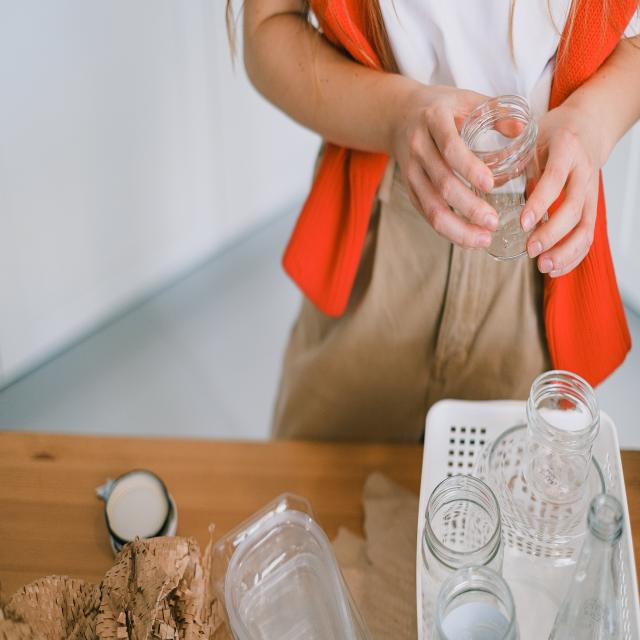glass: (504, 426, 585, 574), (494, 159, 528, 227)
plastic: (248, 543, 334, 637)
